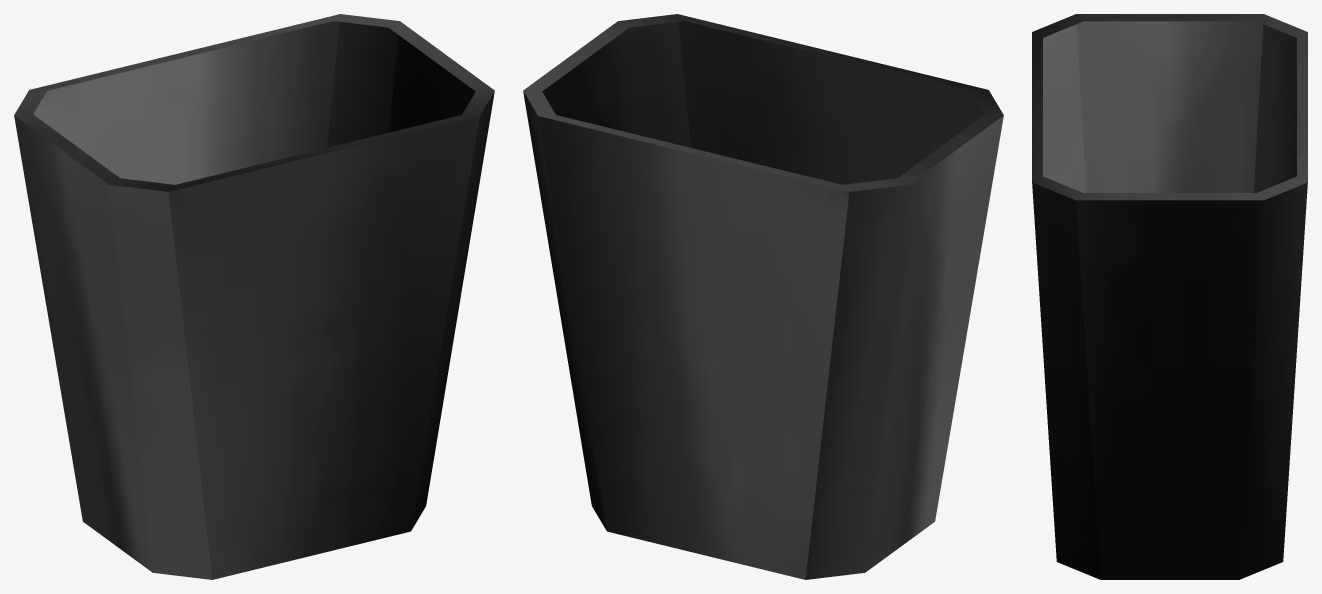
File: trashcan.glb
3 renders of one model, left to right at view 1: azimuth 30°, elevation 25°; view 2: azimuth 150°, elevation 25°; view 3: azimuth 270°, elevation 25°, orthographic.
Parts seen in each view (by area): view 1: Cube; view 2: Cube; view 3: Cube.
Part boxes in pixels (box(x1,y1,x2,y2)): Cube: box(14, 14, 494, 579); Cube: box(523, 14, 1003, 579); Cube: box(1032, 14, 1307, 579).
Size of the model in its own units: 3.01 by 3.06 by 1.88.
1 material, 1 textured.
